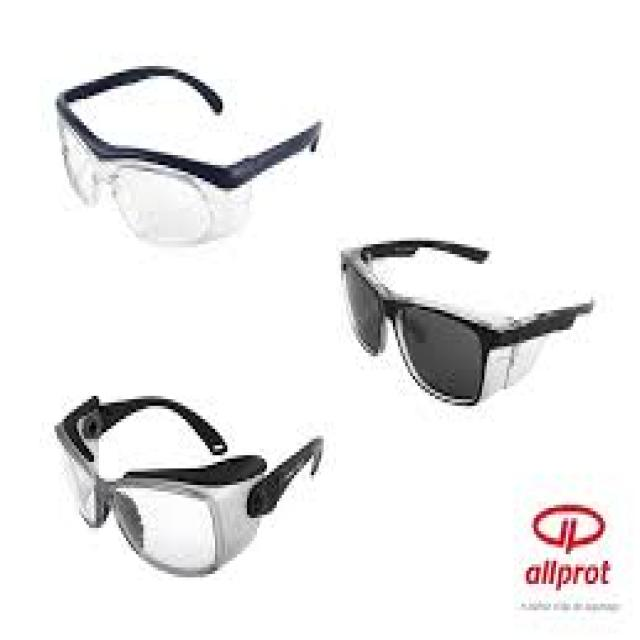oculos-epi: (54, 396, 323, 578), (56, 66, 319, 251)
sem_oculos: (346, 214, 596, 402)
